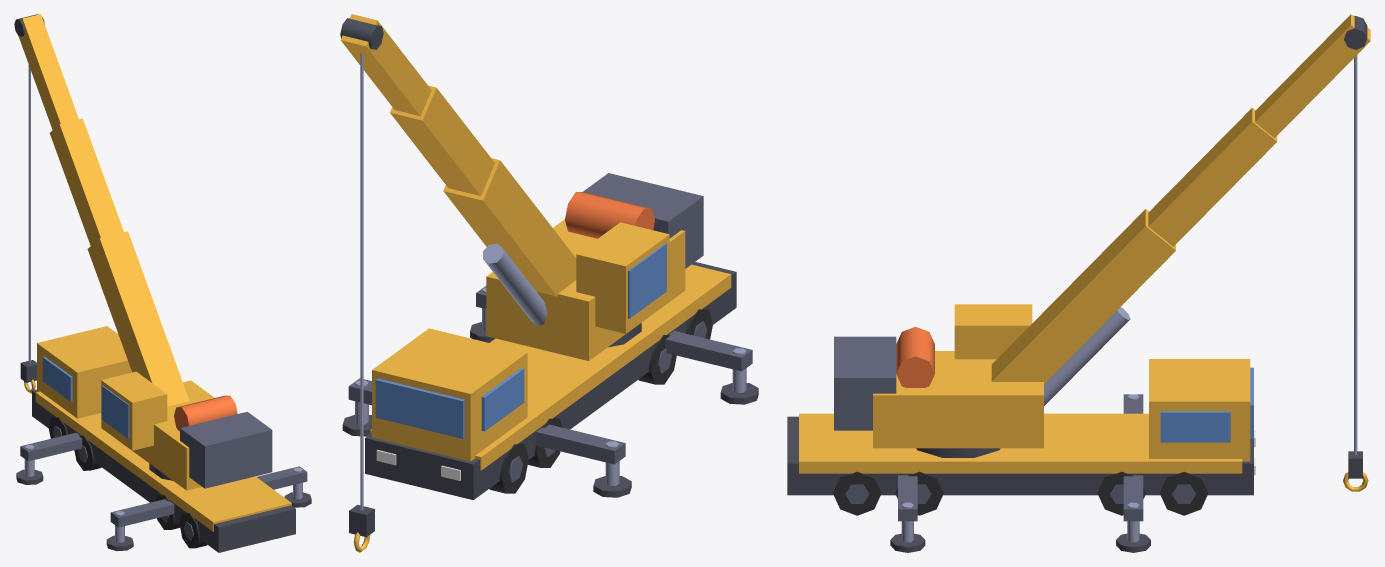
Rendered from grue-mobile.glb.
3 views of the same model, side by side, from view 1: azimuth 30°, elevation 25°; view 2: azimuth 150°, elevation 25°; view 3: azimuth 270°, elevation 25° (orthographic). The views are drawn at different scales.
Parts seen in each view (by area): view 1: fleche-base, bandeau-chassis, contrepoids, cabine-route, chassis, fleche-mediane, fleche-tete, cabine-grutier, bati, treuil, poutre-stab-gar, poutre-stab-gav (+6 smaller); view 2: cabine-route, bandeau-chassis, chassis, bati, fleche-base, cabine-grutier, fleche-mediane, contrepoids, fleche-tete, pare-brise, treuil, verin-levage (+12 smaller); view 3: bandeau-chassis, bati, fleche-base, cabine-route, chassis, fleche-mediane, contrepoids, fleche-tete, cabine-grutier, vitre-route-d, treuil, verin-levage (+7 smaller).
Part boxes in pixels (box(x1,y1,x2,y2)): fleche-base: box(87, 231, 189, 406); bandeau-chassis: box(35, 391, 291, 531); contrepoids: box(180, 411, 272, 488); cabine-route: box(37, 326, 132, 418); chassis: box(32, 389, 295, 552); fleche-mediane: box(49, 118, 123, 245); fleche-tete: box(18, 14, 78, 129); cabine-grutier: box(101, 371, 167, 450); bati: box(119, 380, 214, 490); treuil: box(174, 395, 237, 431); poutre-stab-gar: box(110, 499, 174, 527); poutre-stab-gav: box(20, 432, 82, 461); cabine-route: box(372, 328, 527, 461); bandeau-chassis: box(370, 264, 731, 470); chassis: box(365, 262, 736, 500); bati: box(486, 219, 685, 360); fleche-base: box(443, 158, 576, 296); cabine-grutier: box(576, 222, 669, 333); fleche-mediane: box(390, 85, 494, 195); contrepoids: box(583, 173, 703, 268); fleche-tete: box(341, 14, 431, 116); pare-brise: box(375, 378, 464, 438); treuil: box(565, 192, 654, 238); verin-levage: box(483, 243, 547, 326); bandeau-chassis: box(799, 413, 1242, 473); bati: box(873, 351, 1043, 448); fleche-base: box(991, 209, 1175, 383); cabine-route: box(1149, 359, 1250, 461); chassis: box(787, 416, 1253, 495); fleche-mediane: box(1148, 107, 1277, 246); contrepoids: box(834, 336, 896, 430); fleche-tete: box(1255, 14, 1370, 138); cabine-grutier: box(954, 304, 1032, 359); vitre-route-d: box(1160, 411, 1230, 442); treuil: box(896, 326, 934, 387); verin-levage: box(1044, 307, 1130, 405).
Bounding box in the file's own units: 0.375 × 0.6696 × 0.7499.
